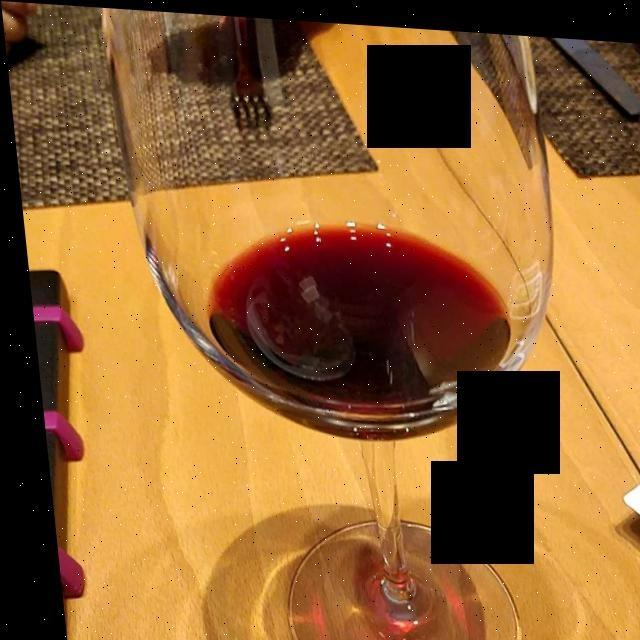wine: (206, 217, 498, 406)
